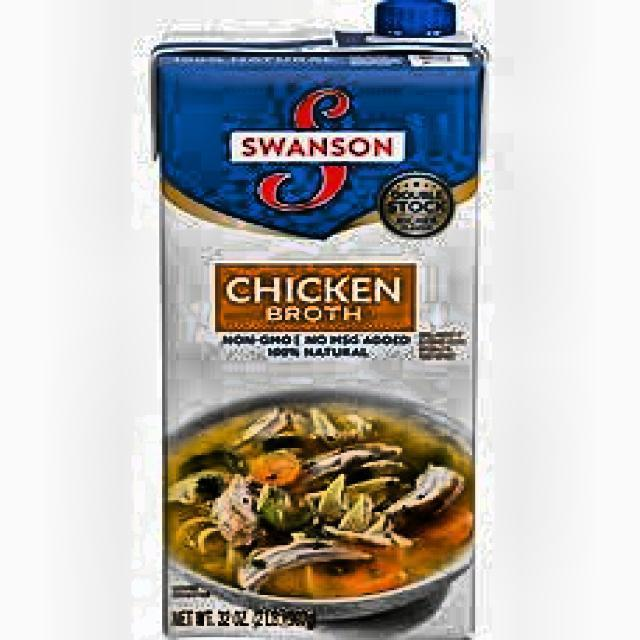cardboard: (148, 2, 486, 638)
